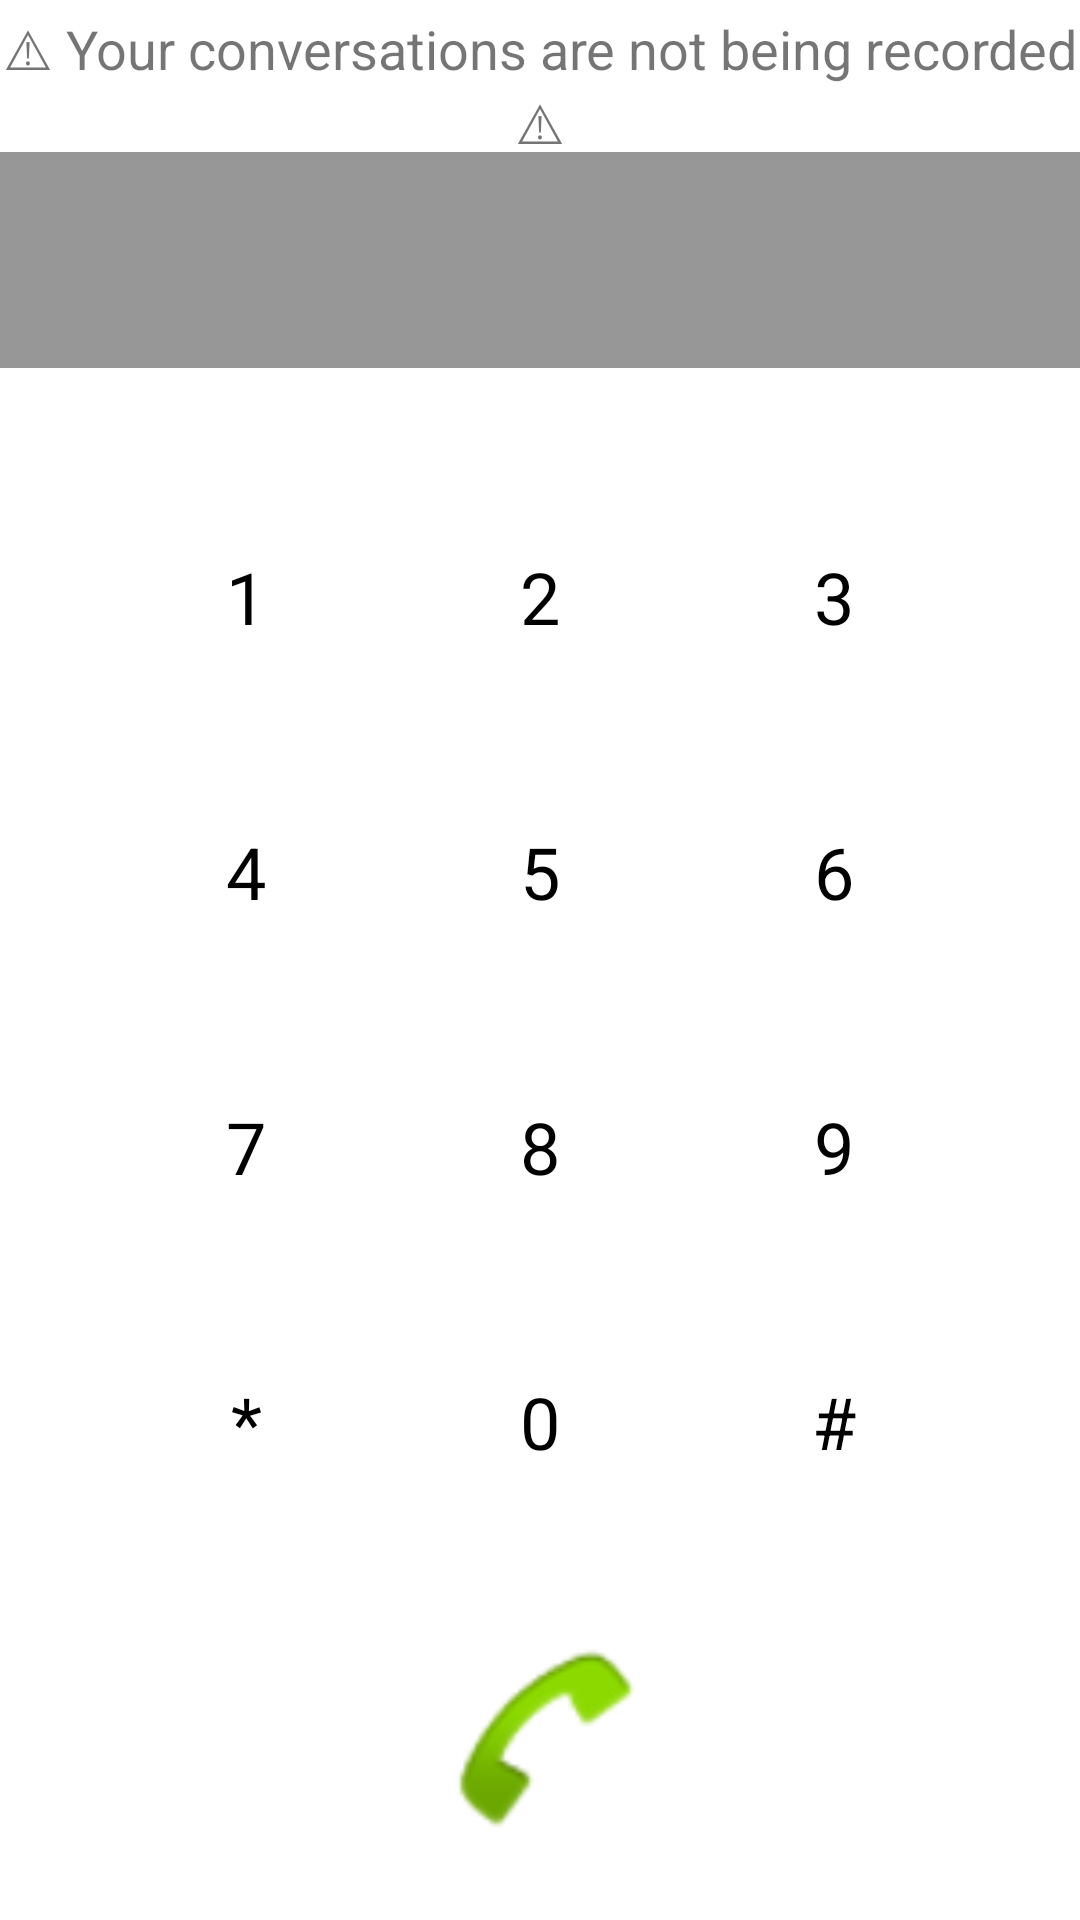

Where icons sit on this 1080×1920 app screen, as [left=x1, top=y1, right=x2, bottom=y2]:
Call Button Transition: [left=459, top=1651, right=633, bottom=1826]
